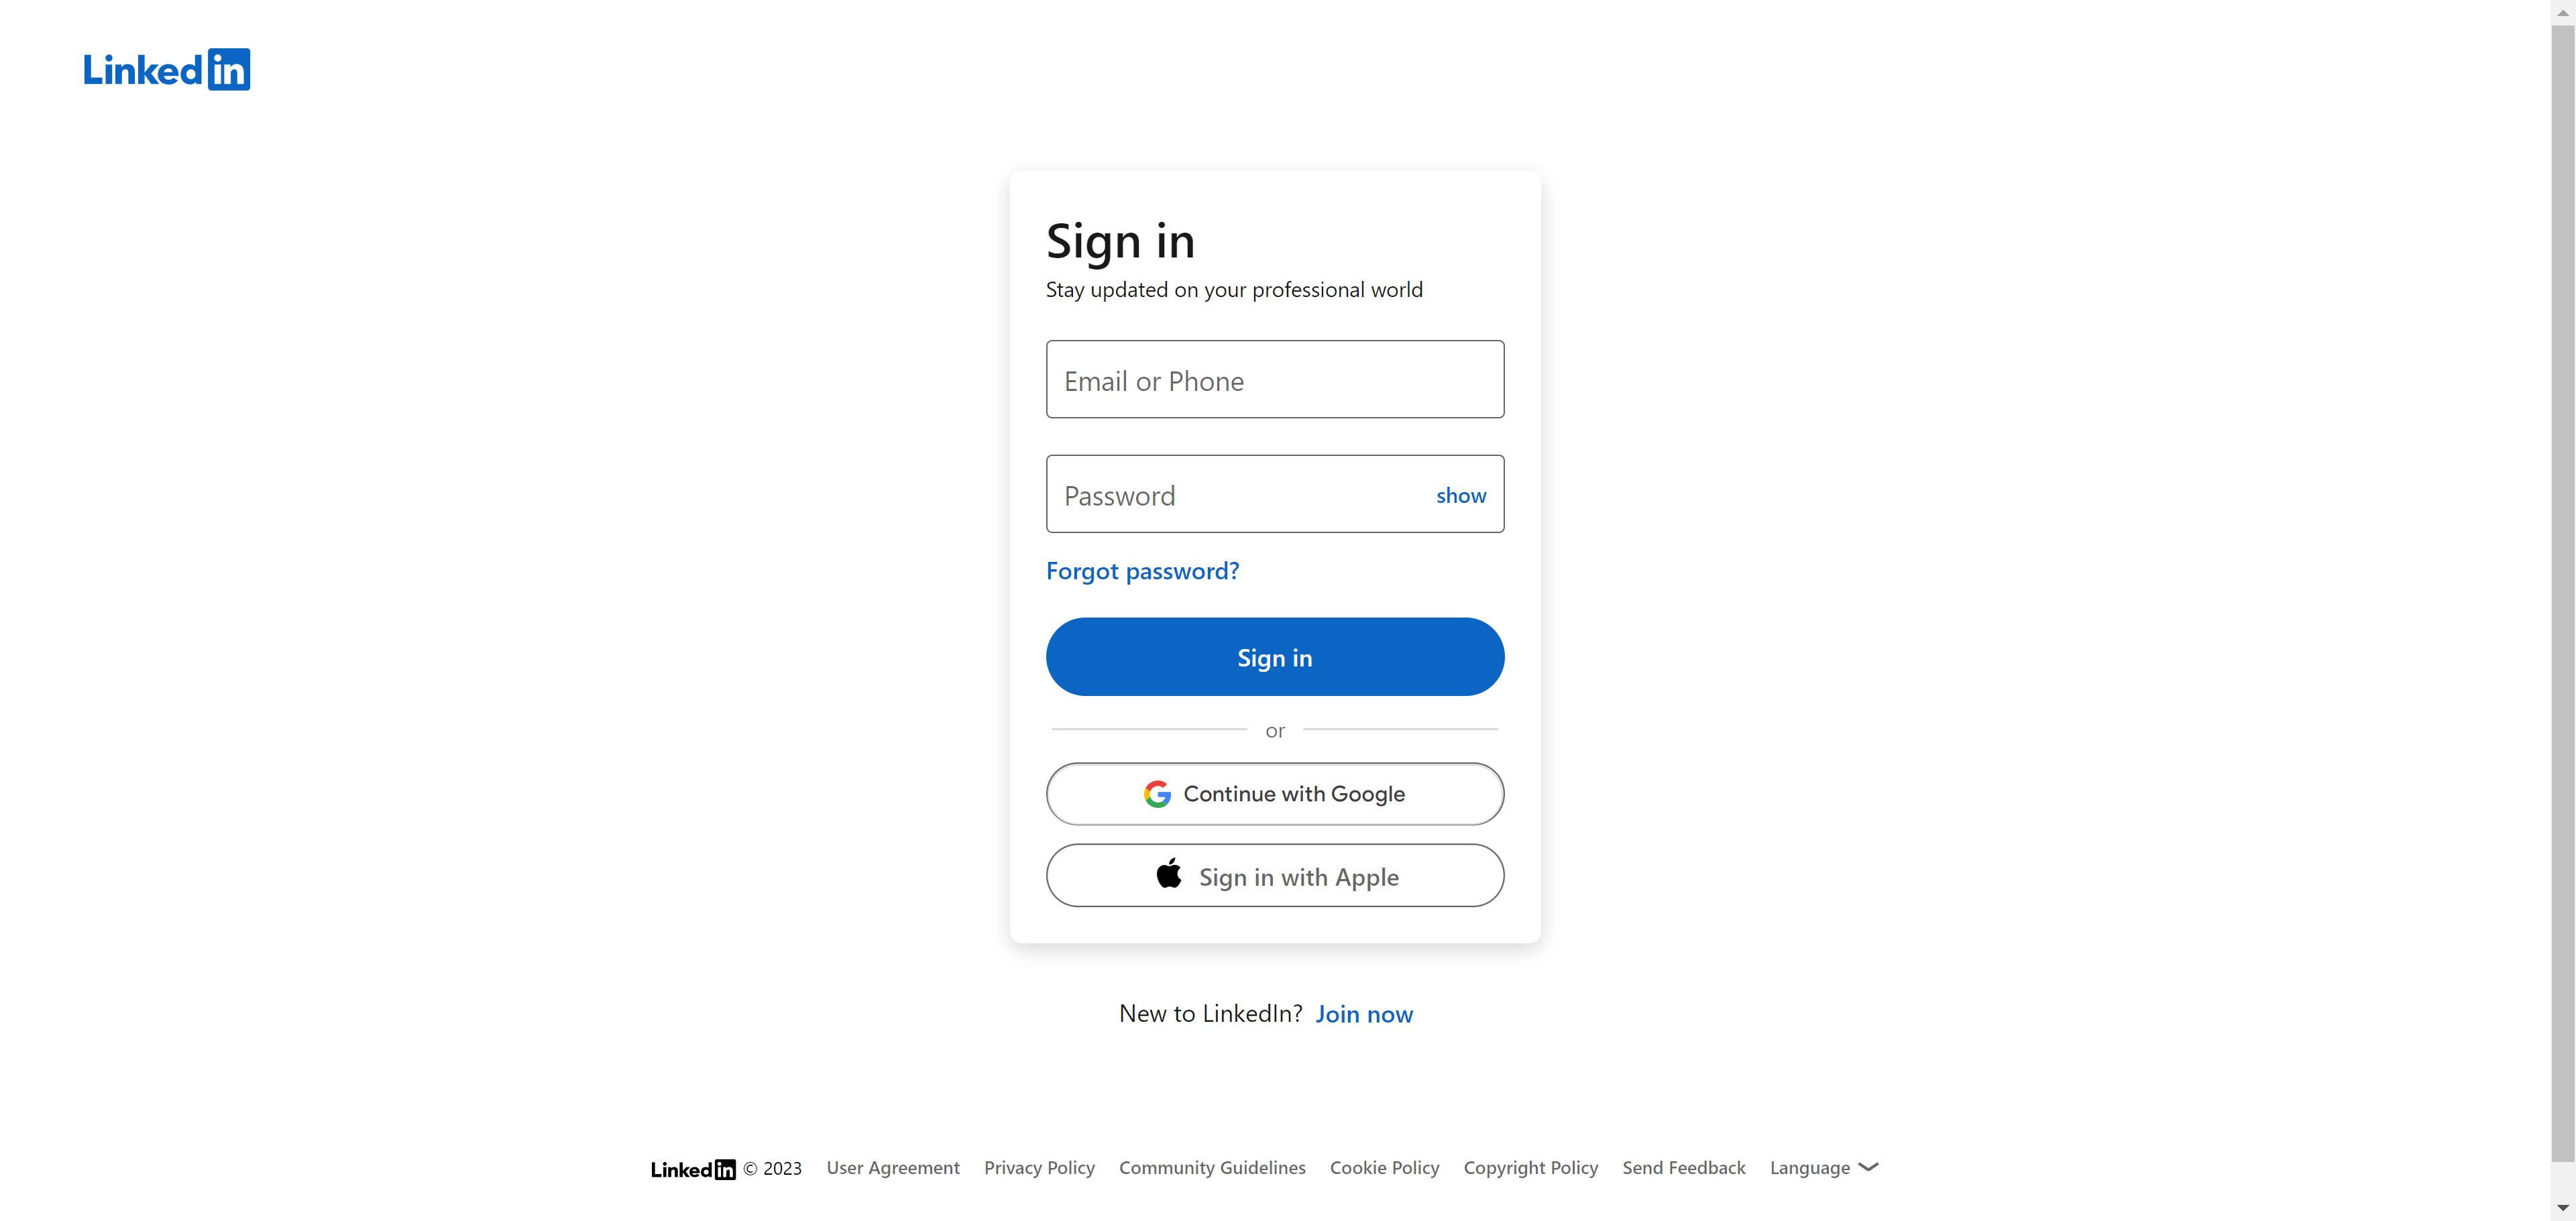login_button: (1046, 618, 1505, 697)
login_form: (1038, 332, 1513, 703)
